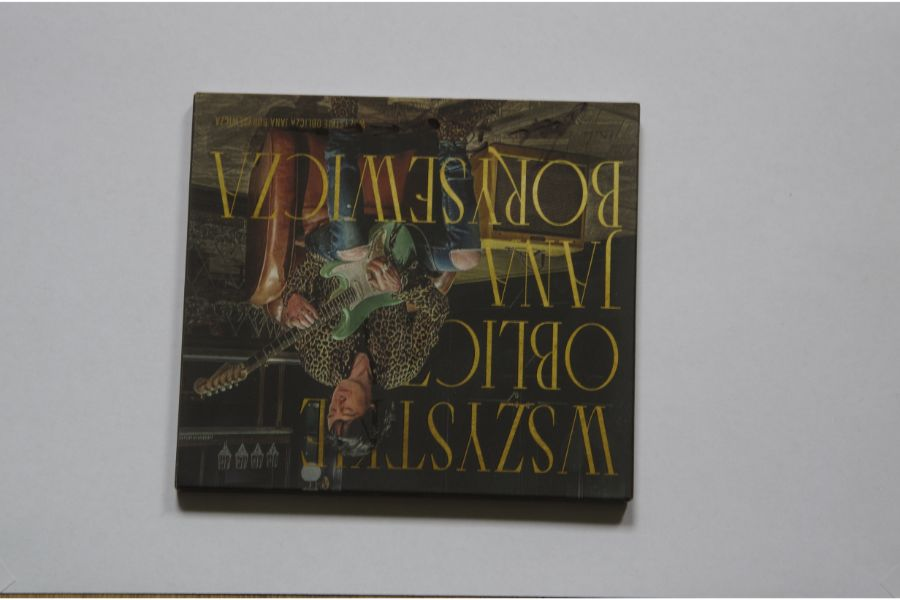album: (175, 93, 638, 502)
